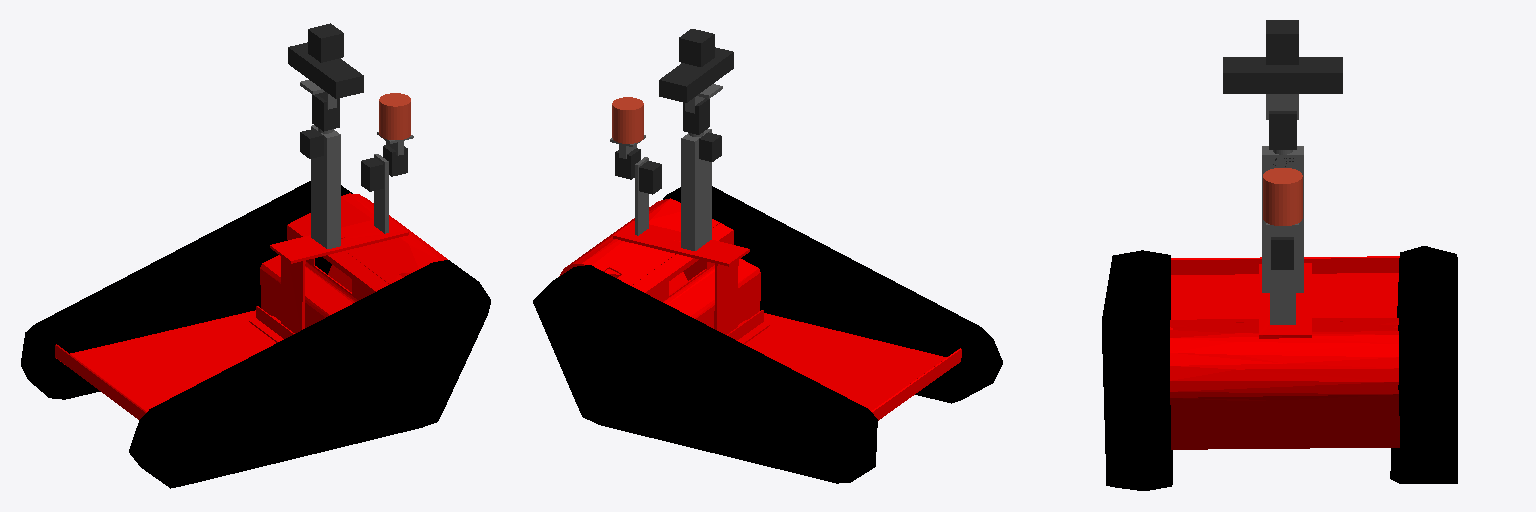
robot.urdf — tedusar_wowbagger:
<?xml version="1.0" ?>
<!-- =================================================================================== -->
<!-- |    This document was autogenerated by xacro from ../urdf/tedusar_wowbagger.urdf.xacro | -->
<!-- |    EDITING THIS FILE BY HAND IS NOT RECOMMENDED                                 | -->
<!-- =================================================================================== -->
<robot name="tedusar_wowbagger" xmlns:xacro="http://ros.org/wiki/xacro">
  <!--Element Base -->
  <link name="robot_footprint">
	</link>
  <link name="base_link">
    <inertial>
      <mass value="12.0"/>
      <origin xyz="0.0 0.0 0.0"/>
      <inertia ixx="1" ixy="0" ixz="0" iyy="1" iyz="0" izz="1"/>
    </inertial>
    <visual name="base_visual">
      <origin rpy="1.5757105 0 0" xyz="0.1 0.01 0"/>
      <geometry>
        <mesh filename="package://tedusar_mesa_element/meshes/mesa_body.stl" scale="0.001 0.001 0.001"/>
      </geometry>
      <material name="Red">
        <color rgba="1.0 0.0 0.0 1.0"/>
      </material>
    </visual>
    <collision>
      <origin rpy="0 0 0" xyz="0.04 0 0.1"/>
      <geometry>
        <box size="0.70 0.35 0.20"/>
      </geometry>
    </collision>
  </link>
  <joint name="footprint_base_joint" type="fixed">
    <origin rpy="0 0 0" xyz="0 0.0 0.1"/>
    <parent link="robot_footprint"/>
    <child link="base_link"/>
  </joint>
  <link name="left_track_link">
    <inertial>
      <mass value="0.01"/>
      <!-- dummy mass -->
      <origin xyz="0.01 0.01 0.01"/>
      <inertia ixx="1" ixy="0" ixz="0" iyy="1" iyz="0" izz="1"/>
    </inertial>
    <visual name="base_visual">
      <origin rpy="1.5757105 0 0" xyz="0.1 0.01 0"/>
      <geometry>
        <mesh filename="package://tedusar_mesa_element/meshes/mesa_left_track.stl" scale="0.001 0.001 0.001"/>
      </geometry>
      <material name="Black">
        <color rgba="0.0 0.0 0.0 1.0"/>
      </material>
    </visual>
    <collision>
      <origin rpy="0 0 0" xyz="0.03 0.235 0.055"/>
      <geometry>
        <box size="0.75 0.1 0.31"/>
      </geometry>
    </collision>
  </link>
  <joint name="left_track_base_joint" type="fixed">
    <origin rpy="0 0 0" xyz="0 0.0 0.0"/>
    <parent link="base_link"/>
    <child link="left_track_link"/>
  </joint>
  <link name="right_track_link">
    <inertial>
      <mass value="0.01"/>
      <!-- dummy mass -->
      <origin xyz="0.01 0.01 0.01"/>
      <inertia ixx="1" ixy="0" ixz="0" iyy="1" iyz="0" izz="1"/>
    </inertial>
    <visual name="base_visual">
      <origin rpy="1.5757105 0 0" xyz="0.1 0.01 0"/>
      <geometry>
        <mesh filename="package://tedusar_mesa_element/meshes/mesa_right_track.stl" scale="0.001 0.001 0.001"/>
      </geometry>
      <material name="Black">
        <color rgba="0.0 0.0 0.0 1.0"/>
      </material>
    </visual>
    <collision>
      <origin rpy="0 0 0" xyz="0.03 -0.235 0.055"/>
      <geometry>
        <box size="0.75 0.1 0.31"/>
      </geometry>
    </collision>
  </link>
  <joint name="right_track_base_joint" type="fixed">
    <origin rpy="0 0 0" xyz="0 0.0 0.0"/>
    <parent link="base_link"/>
    <child link="right_track_link"/>
  </joint>
  <!--Laser Alignment -->
  <link name="la_base_link">
    <visual>
      <geometry>
        <box size="0.008 0.04 0.15"/>
      </geometry>
      <material name="light_gray">
        <color rgba="0.4 0.4 0.4 1.0"/>
      </material>
      <origin rpy="0 0 0" xyz="0 0 0.08"/>
    </visual>
    <collision>
      <geometry>
        <box size="0.008 0.04 0.15"/>
      </geometry>
      <material name="light_gray">
        <color rgba="0.4 0.4 0.4 1.0"/>
      </material>
      <origin rpy="0 0 0" xyz="0 0 0.08"/>
    </collision>
  </link>
  <link name="la_servo1">
    <visual>
      <geometry>
        <box size="0.035 0.035 0.05"/>
      </geometry>
      <material name="gray">
        <color rgba="0.2 0.2 0.2 1.0"/>
      </material>
      <origin rpy="0 0 0" xyz="-0.0175 0 -0.01"/>
    </visual>
    <collision>
      <geometry>
        <box size="0.035 0.035 0.05"/>
      </geometry>
      <material name="gray">
        <color rgba="0.2 0.2 0.2 1.0"/>
      </material>
      <origin rpy="0 0 0" xyz="-0.0175 0 -0.01"/>
    </collision>
  </link>
  <link name="la_servo1_roll"/>
  <link name="la_servo2">
    <visual>
      <geometry>
        <box size="0.035 0.035 0.05"/>
      </geometry>
      <material name="gray"/>
      <origin rpy="0 0 0" xyz="0 0 -0.02"/>
    </visual>
    <collision>
      <geometry>
        <box size="0.035 0.035 0.05"/>
      </geometry>
      <material name="gray"/>
      <origin rpy="0 0 0" xyz="0 0 -0.02"/>
    </collision>
  </link>
  <link name="la_servo2_pitch">
    <visual>
      <geometry>
        <box size="0.043 0.015 0.045"/>
      </geometry>
      <material name="light_gray"/>
      <origin rpy="0 0 0" xyz="0 0 0.02"/>
    </visual>
    <collision>
      <geometry>
        <box size="0.043 0.015 0.045"/>
      </geometry>
      <material name="light_gray"/>
      <origin rpy="0 0 0" xyz="0 0 0.02"/>
    </collision>
  </link>
  <link name="la_platform">
    <visual>
      <geometry>
        <box size="0.050 0.050 0.005"/>
      </geometry>
      <material name="light_gray"/>
      <origin rpy="0 0 0" xyz="0 0 0.01"/>
    </visual>
    <collision>
      <geometry>
        <box size="0.050 0.050 0.005"/>
      </geometry>
      <material name="light_gray"/>
      <origin rpy="0 0 0" xyz="0 0 0.01"/>
    </collision>
  </link>
  <link name="la_laser">
    <visual>
      <geometry>
        <cylinder length="0.07" radius="0.03"/>
      </geometry>
      <material name="red">
        <color rgba="0.8 0.3 0.2 1.0"/>
      </material>
      <origin rpy="0 0 0" xyz="0 0 0.018"/>
    </visual>
    <collision>
      <geometry>
        <cylinder length="0.07" radius="0.03"/>
      </geometry>
      <material name="red">
        <color rgba="0.8 0.3 0.2 1.0"/>
      </material>
      <origin rpy="0 0 0" xyz="0 0 0.018"/>
    </collision>
  </link>
  <joint name="la_base_to_servo1" type="fixed">
    <parent link="la_base_link"/>
    <child link="la_servo1"/>
    <origin rpy="0 0 0" xyz="0 0 0.135"/>
  </joint>
  <joint name="la_roll_joint" type="continuous">
    <parent link="la_servo1"/>
    <child link="la_servo1_roll"/>
    <origin rpy="0 0 0" xyz="0 0 0"/>
  </joint>
  <joint name="la_servo1_roll_to_servo2" type="fixed">
    <parent link="la_servo1_roll"/>
    <child link="la_servo2"/>
    <origin rpy="0 0 -1.570796" xyz="0.03 0 0.03"/>
  </joint>
  <joint name="la_pitch_joint" type="continuous">
    <parent link="la_servo2"/>
    <child link="la_servo2_pitch"/>
    <origin rpy="0 0 0" xyz="0 0 0"/>
  </joint>
  <joint name="la_servo2_pitch_to_platform" type="fixed">
    <parent link="la_servo2_pitch"/>
    <child link="la_platform"/>
    <origin rpy="0 0 1.570796" xyz="0 0 0.02"/>
  </joint>
  <joint name="la_platform_to_laser" type="fixed">
    <parent link="la_platform"/>
    <child link="la_laser"/>
    <origin rpy="0 0 0" xyz="0 0 0.03"/>
  </joint>
  <joint name="base_to_laser_alignment" type="fixed">
    <parent link="base_link"/>
    <child link="la_base_link"/>
    <origin rpy="0 0 0" xyz="0.30 0 0.19"/>
  </joint>
  <!--Sensor Head -->
  <link name="sh_base_link">
    <visual>
      <geometry>
        <box size="0.03 0.063 0.23"/>
      </geometry>
      <material name="light_gray">
        <color rgba="0.4 0.4 0.4 1.0"/>
      </material>
      <origin rpy="0 0 0" xyz="0 0 0.115"/>
    </visual>
    <collision>
      <geometry>
        <box size="0.03 0.063 0.23"/>
      </geometry>
      <material name="light_gray">
        <color rgba="0.4 0.4 0.4 1.0"/>
      </material>
      <origin rpy="0 0 0" xyz="0 0 0.115"/>
    </collision>
  </link>
  <link name="sh_servo1">
    <visual>
      <geometry>
        <box size="0.042 0.035 0.06"/>
      </geometry>
      <material name="gray">
        <color rgba="0.2 0.2 0.2 1.0"/>
      </material>
      <origin rpy="0 0 0" xyz="-0.021 0 0.015"/>
    </visual>
    <collision>
      <geometry>
        <box size="0.042 0.035 0.06"/>
      </geometry>
      <material name="gray">
        <color rgba="0.2 0.2 0.2 1.0"/>
      </material>
      <origin rpy="0 0 0" xyz="-0.021 0 0.015"/>
    </collision>
  </link>
  <link name="sh_servo1_yaw">
    <visual>
      <geometry>
        <cylinder length="0.02" radius="0.015"/>
      </geometry>
      <material name="light_gray"/>
      <origin rpy="0 -1.570796 0" xyz="0.01 0 0"/>
    </visual>
    <collision>
      <geometry>
        <cylinder length="0.02" radius="0.015"/>
      </geometry>
      <material name="light_gray"/>
      <origin rpy="0 -1.570796 0" xyz="0.01 0 0"/>
    </collision>
  </link>
  <link name="sh_servo2">
    <visual>
      <geometry>
        <box size="0.043 0.035 0.06"/>
      </geometry>
      <material name="gray">
        <color rgba="0.2 0.2 0.2 1.0"/>
      </material>
      <origin rpy="0 0 0" xyz="0 0 -0.015"/>
    </visual>
    <collision>
      <geometry>
        <box size="0.043 0.035 0.06"/>
      </geometry>
      <material name="gray">
        <color rgba="0.2 0.2 0.2 1.0"/>
      </material>
      <origin rpy="0 0 0" xyz="0 0 -0.015"/>
    </collision>
  </link>
  <link name="sh_servo2_pitch">
    <visual>
      <geometry>
        <box size="0.05 0.02 0.04"/>
      </geometry>
      <material name="light_gray"/>
      <origin rpy="0 0 0" xyz="0 0 0.02"/>
    </visual>
    <collision>
      <geometry>
        <box size="0.05 0.02 0.04"/>
      </geometry>
      <material name="light_gray"/>
      <origin rpy="0 0 0" xyz="0 0 0.02"/>
    </collision>
  </link>
  <link name="sh_platform">
    <visual>
      <geometry>
        <box size="0.055 0.05 0.007"/>
      </geometry>
      <material name="light_gray"/>
      <origin rpy="0 0 0" xyz="-0.015 0 -0.0035"/>
    </visual>
    <collision>
      <geometry>
        <box size="0.055 0.05 0.007"/>
      </geometry>
      <material name="light_gray"/>
      <origin rpy="0 0 0" xyz="-0.015 0 -0.0035"/>
    </collision>
  </link>
  <link name="sh_kinect">
    <visual>
      <geometry>
        <box size="0.06 0.18 0.035"/>
      </geometry>
      <material name="gray"/>
      <origin rpy="0 0 0" xyz="0 0 0"/>
    </visual>
    <collision>
      <geometry>
        <box size="0.06 0.18 0.035"/>
      </geometry>
      <geometry>
        <box size="0.06 0.18 0.035"/>
      </geometry>
      <material name="gray"/>
      <origin rpy="0 0 0" xyz="0 0 0"/>
    </collision>
  </link>
  <link name="sh_thermal_camera">
    <visual>
      <geometry>
        <box size="0.05 0.05 0.05"/>
      </geometry>
      <material name="gray"/>
      <origin rpy="0 0 0" xyz="0 0 0"/>
    </visual>
    <collision>
      <geometry>
        <box size="0.050 0.050 0.05"/>
      </geometry>
      <material name="gray"/>
      <origin rpy="0 0 0" xyz="0 0 0"/>
    </collision>
  </link>
  <joint name="sh_base_to_servo1" type="fixed">
    <parent link="sh_base_link"/>
    <child link="sh_servo1"/>
    <origin rpy="0 -1.570796 0" xyz="0 0 0.23"/>
  </joint>
  <joint name="sh_yaw_joint" type="continuous">
    <parent link="sh_servo1"/>
    <child link="sh_servo1_yaw"/>
    <origin rpy="0 0 0" xyz="0 0 0"/>
  </joint>
  <joint name="sh_servo1_yaw_to_servo2" type="fixed">
    <parent link="sh_servo1_yaw"/>
    <child link="sh_servo2"/>
    <origin rpy="-1.570796 0 -1.570796" xyz="0.055 0 0"/>
  </joint>
  <joint name="sh_pitch_joint" type="continuous">
    <parent link="sh_servo2"/>
    <child link="sh_servo2_pitch"/>
    <origin rpy="0 0 0" xyz="0 0 0"/>
  </joint>
  <joint name="sh_servo2_pitch_to_platform" type="fixed">
    <parent link="sh_servo2_pitch"/>
    <child link="sh_platform"/>
    <origin rpy="0 0 1.570796" xyz="0 0 0.045"/>
  </joint>
  <joint name="sh_platform_to_kinect" type="fixed">
    <parent link="sh_platform"/>
    <child link="sh_kinect"/>
    <origin rpy="0 0 0" xyz="0 0 0.025"/>
  </joint>
  <joint name="sh_platform_to_thermal_camera" type="fixed">
    <parent link="sh_platform"/>
    <child link="sh_thermal_camera"/>
    <origin rpy="0 0 0" xyz="0 0 0.08"/>
  </joint>
  <joint name="base_to_sensor_head" type="fixed">
    <parent link="base_link"/>
    <child link="sh_base_link"/>
    <origin rpy="0 0 0" xyz="0.18 0 0.20"/>
  </joint>
</robot>

--- Facts derived from the render (not from the file) ---
Views: 3 orthographic renders of the robot side by side, from view 1: azimuth 30°, elevation 25°; view 2: azimuth 150°, elevation 25°; view 3: azimuth 270°, elevation 25°.
Model tedusar_wowbagger with 19 links and 18 joints (4 continuous, 14 fixed), rooted at robot_footprint, posed every joint at zero.
Visible links, largest first — view 1: right_track_link, base_link, left_track_link, sh_base_link, sh_kinect, la_laser, sh_thermal_camera, la_base_link, sh_servo2, la_servo1, sh_servo1, la_servo2; view 2: left_track_link, base_link, right_track_link, sh_base_link, sh_kinect, la_laser, sh_thermal_camera, la_base_link, sh_servo2, la_servo1, sh_servo1, la_servo2; view 3: base_link, right_track_link, left_track_link, sh_kinect, la_laser, sh_base_link, la_base_link, sh_thermal_camera, sh_servo2, la_servo2.
Link boxes in pixels (x1=…): right_track_link: x1=129, y1=260, x2=490, y2=488; base_link: x1=55, y1=193, x2=447, y2=419; left_track_link: x1=21, y1=181, x2=352, y2=399; sh_base_link: x1=311, y1=125, x2=340, y2=248; sh_kinect: x1=288, y1=42, x2=363, y2=98; la_laser: x1=379, y1=93, x2=410, y2=139; sh_thermal_camera: x1=308, y1=23, x2=343, y2=62; la_base_link: x1=374, y1=154, x2=388, y2=233; sh_servo2: x1=312, y1=94, x2=339, y2=131; la_servo1: x1=361, y1=157, x2=383, y2=191; sh_servo1: x1=300, y1=129, x2=323, y2=158; la_servo2: x1=383, y1=145, x2=407, y2=176; left_track_link: x1=533, y1=265, x2=877, y2=483; base_link: x1=559, y1=198, x2=961, y2=420; right_track_link: x1=663, y1=186, x2=1002, y2=403; sh_base_link: x1=681, y1=129, x2=711, y2=250; sh_kinect: x1=659, y1=47, x2=733, y2=102; la_laser: x1=612, y1=97, x2=643, y2=143; sh_thermal_camera: x1=679, y1=29, x2=714, y2=66; la_base_link: x1=635, y1=157, x2=648, y2=235; sh_servo2: x1=683, y1=98, x2=709, y2=134; la_servo1: x1=639, y1=161, x2=661, y2=194; sh_servo1: x1=699, y1=132, x2=721, y2=161; la_servo2: x1=615, y1=148, x2=640, y2=179; base_link: x1=1170, y1=256, x2=1399, y2=449; right_track_link: x1=1102, y1=250, x2=1172, y2=490; left_track_link: x1=1390, y1=246, x2=1457, y2=483; sh_kinect: x1=1223, y1=57, x2=1342, y2=93; la_laser: x1=1263, y1=168, x2=1302, y2=225; sh_base_link: x1=1262, y1=146, x2=1303, y2=292; la_base_link: x1=1270, y1=241, x2=1295, y2=324; sh_thermal_camera: x1=1266, y1=20, x2=1298, y2=64; sh_servo2: x1=1269, y1=111, x2=1296, y2=149; la_servo2: x1=1271, y1=237, x2=1293, y2=269.
Bounding box of the posed robot: 0.7428 × 0.5382 × 0.7355 m (x, y, z).
Meshes: 3 distinct files referenced, 3 mesh visuals loaded (3 binary STL).
